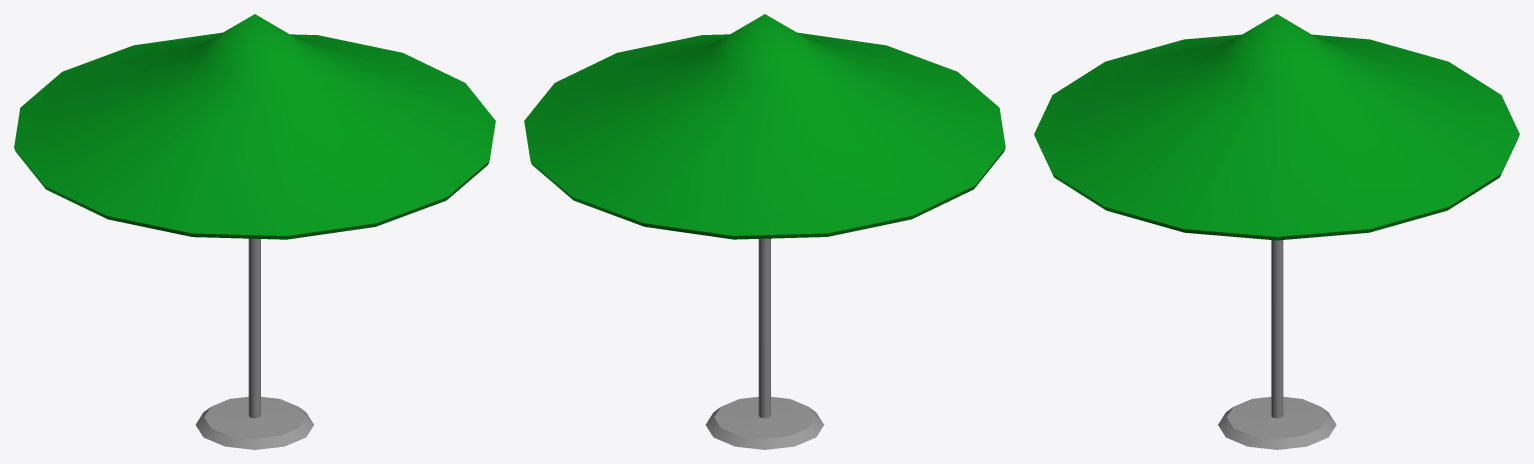
Rendered from MOD_ParasolC.FBX.
3 views of the same model, side by side, from view 1: azimuth 30°, elevation 25°; view 2: azimuth 150°, elevation 25°; view 3: azimuth 270°, elevation 25° (orthographic).
Parts seen in each view (by area): view 1: Line003; view 2: Line003; view 3: Line003.
Part boxes in pixels (x1=…): Line003: x1=14, y1=14, x2=495, y2=449; Line003: x1=524, y1=14, x2=1005, y2=449; Line003: x1=1034, y1=14, x2=1519, y2=449.
Bounding box in the file's own units: 80.37 × 75 × 80.37.
